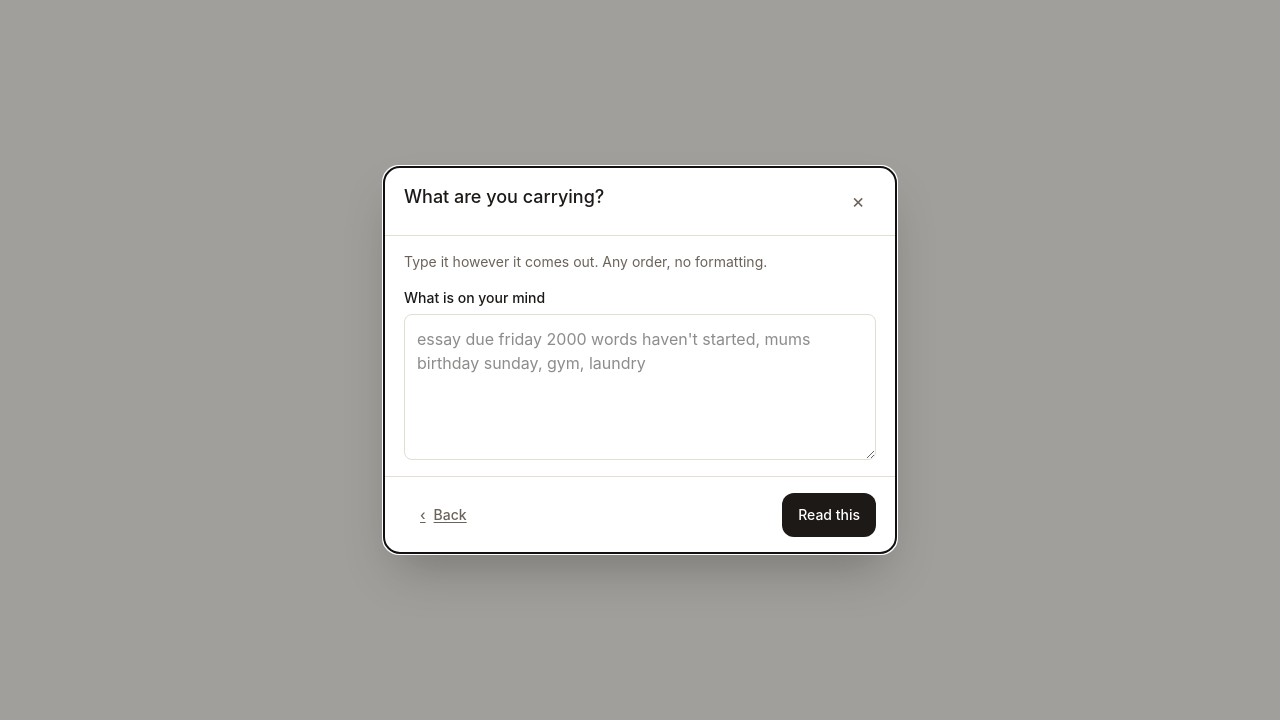
Test: PlannerScreen › says when it understood nothing
The width and height of the screenshot is (1280, 720).
Click the button "Read this": x=829, y=515 x1=782 y1=493 x2=876 y2=537
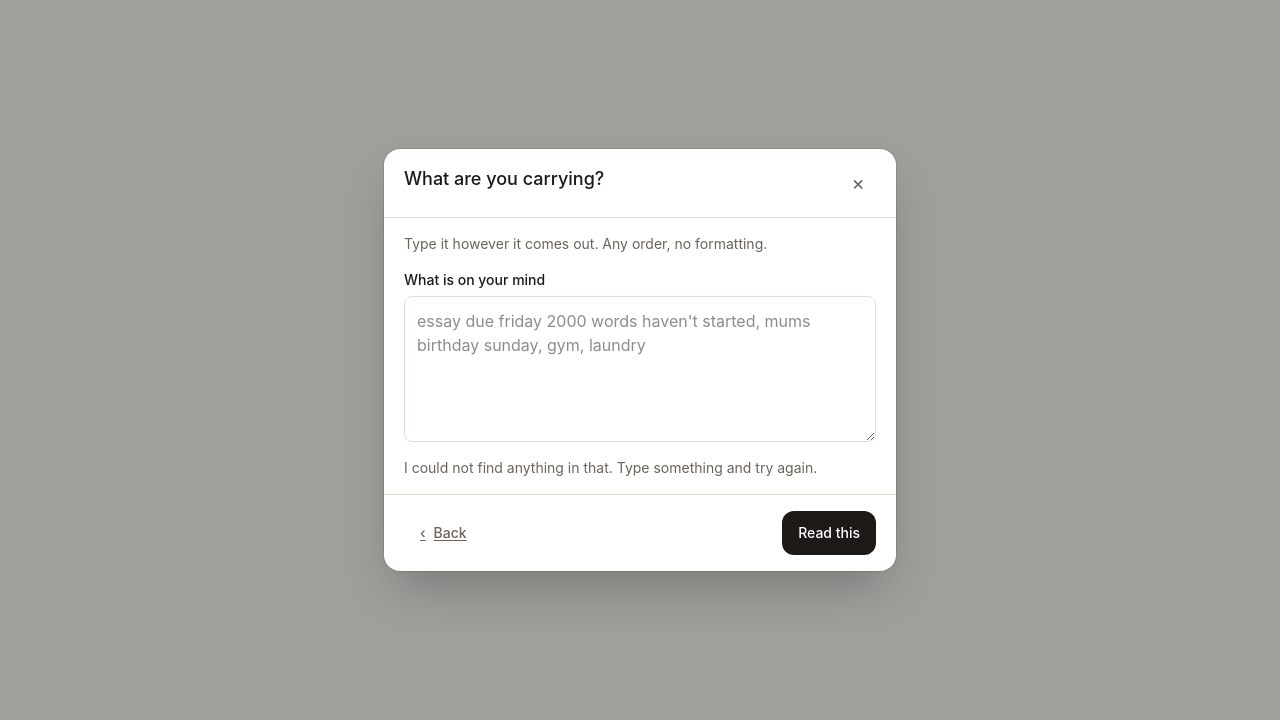
Now the text "could not find anything" is shown, box x1=404 y1=459 x2=817 y2=476
